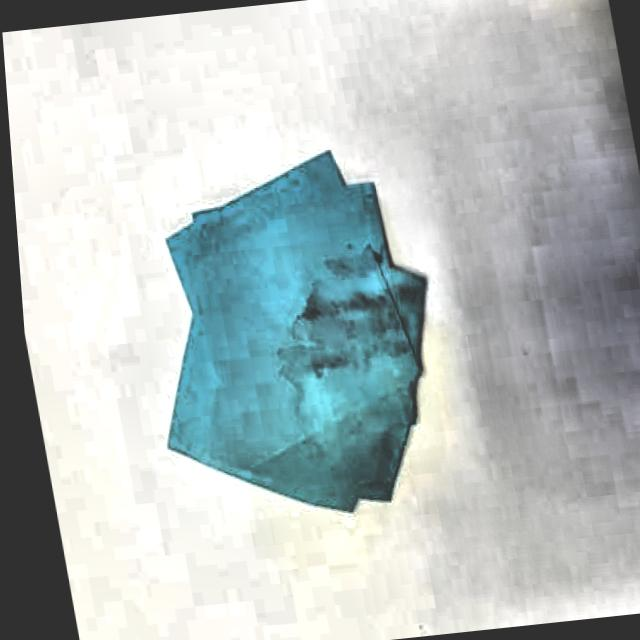Paper: (110, 128, 472, 558)
